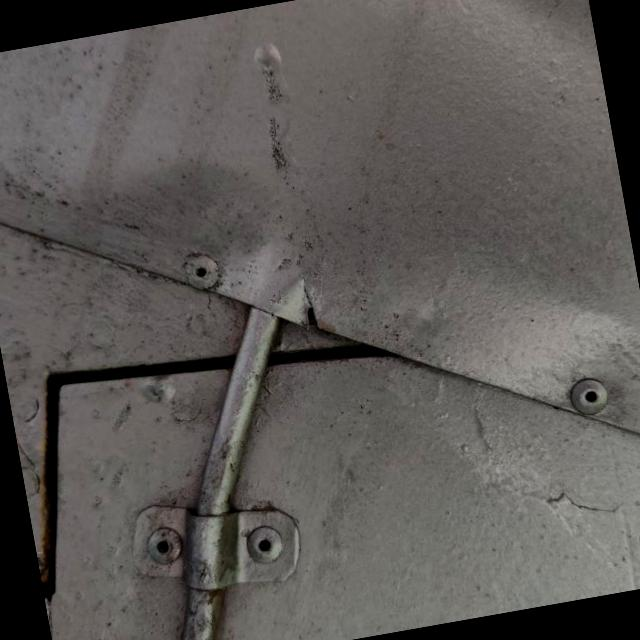crack: (281, 260, 351, 346)
